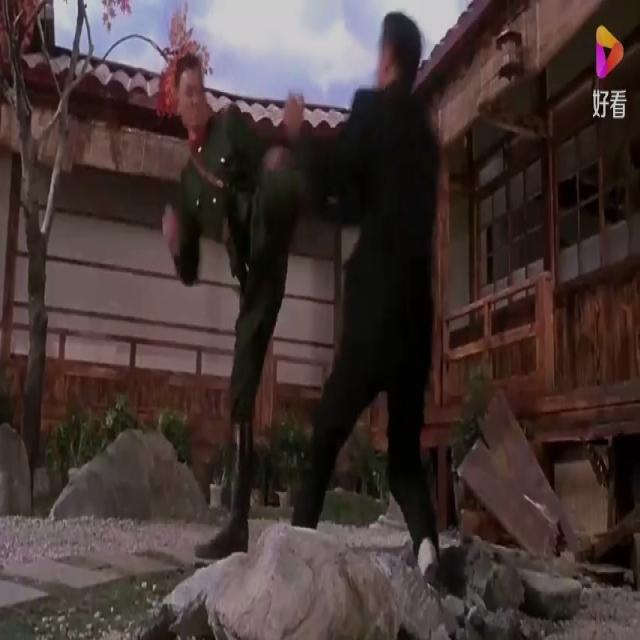fight: (154, 0, 466, 627)
